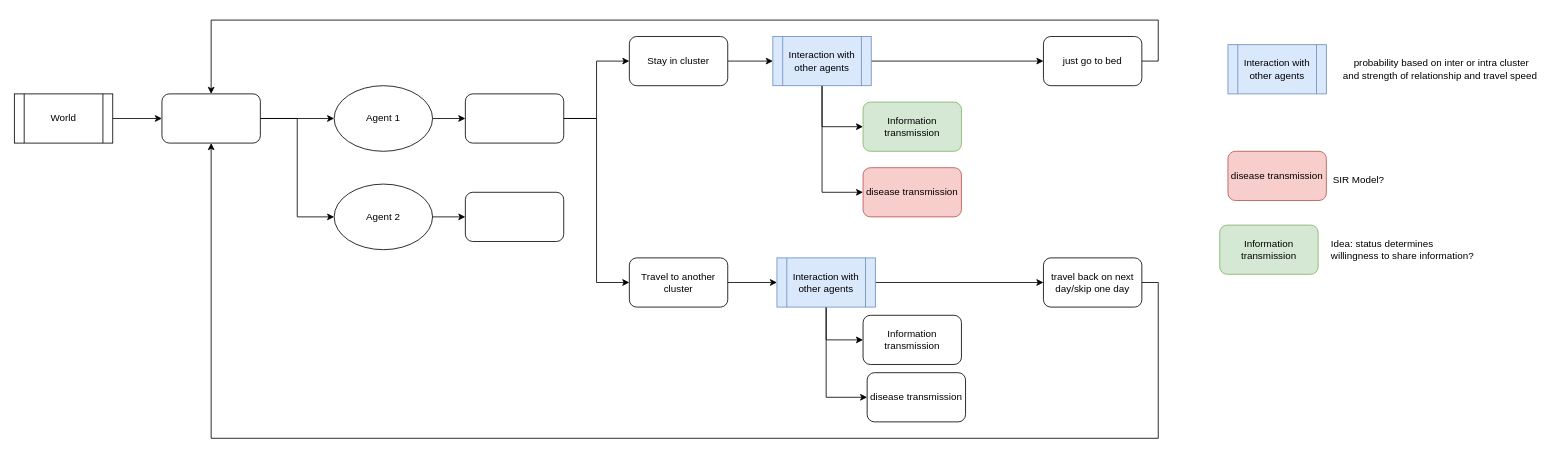
Image size: 1562x459. Some labels were removed from this diagram. Each missing label, with the centre of its shape:
Check and update health status: the point at 514,118
literally the same flow: the point at 514,216
Timestep passes: the point at 210,118
